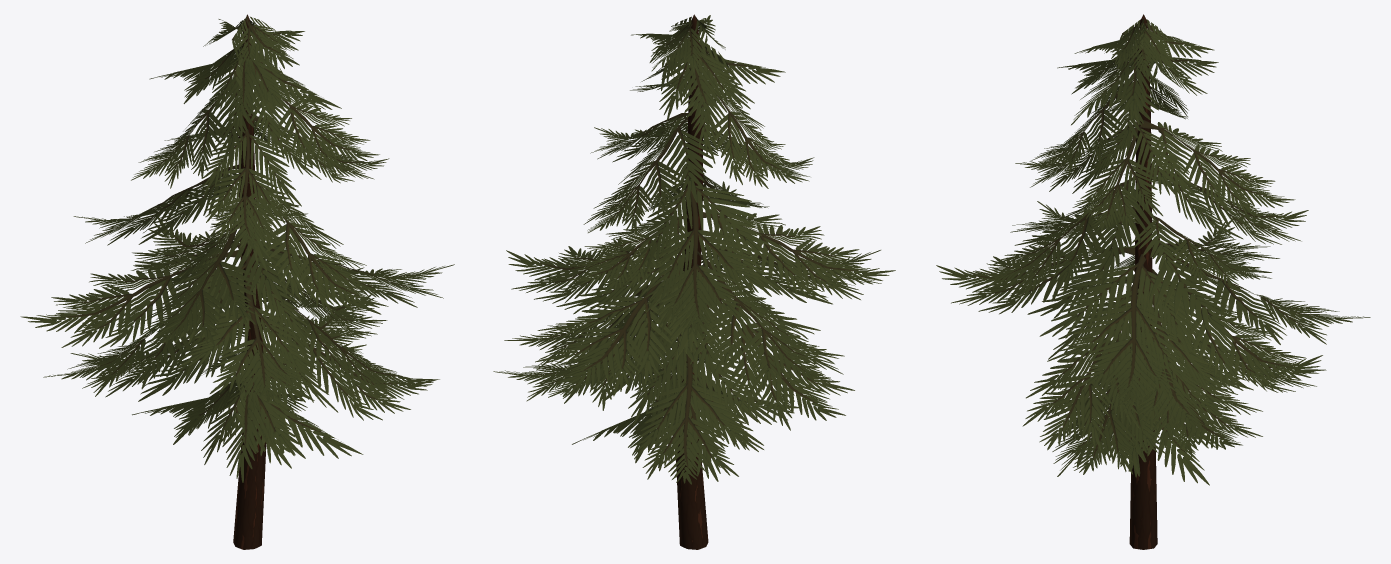
File: pine_tree_5.glb
3 renders of one model, left to right at view 1: azimuth 30°, elevation 25°; view 2: azimuth 150°, elevation 25°; view 3: azimuth 270°, elevation 25°, orthographic.
Parts seen in each view (by area): view 1: PineTree_52; view 2: PineTree_52; view 3: PineTree_52.
Part boxes in pixels (<box>): PineTree_52: <box>20,14,454,549</box>; PineTree_52: <box>493,14,895,549</box>; PineTree_52: <box>936,14,1370,549</box>.
Size of the model in its own units: 3.31 by 4.3 by 3.29.
2 materials, 2 textured.
